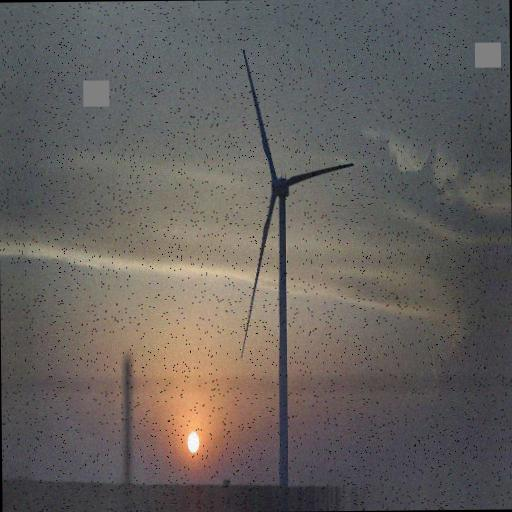wind turbine: (239, 50, 355, 490)
